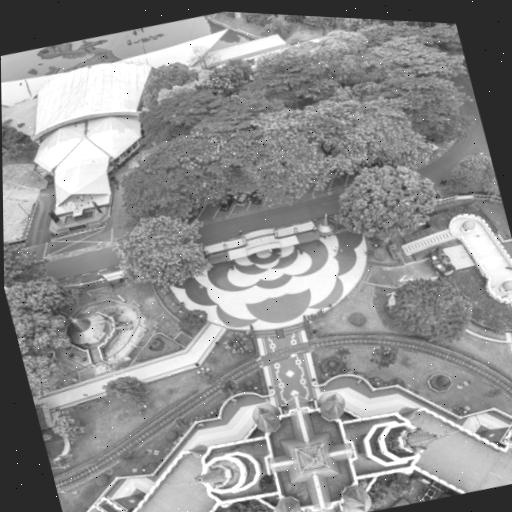tree-top: (302, 27, 472, 175), (318, 144, 453, 261), (104, 200, 221, 312), (117, 130, 240, 222), (377, 263, 478, 360), (4, 270, 86, 372), (256, 38, 344, 115), (241, 88, 320, 172), (233, 143, 308, 213), (439, 141, 501, 207), (125, 53, 195, 109), (3, 232, 50, 295), (312, 22, 369, 70), (96, 367, 154, 414), (194, 55, 247, 98), (47, 405, 91, 451), (171, 300, 210, 343), (337, 17, 379, 36)
